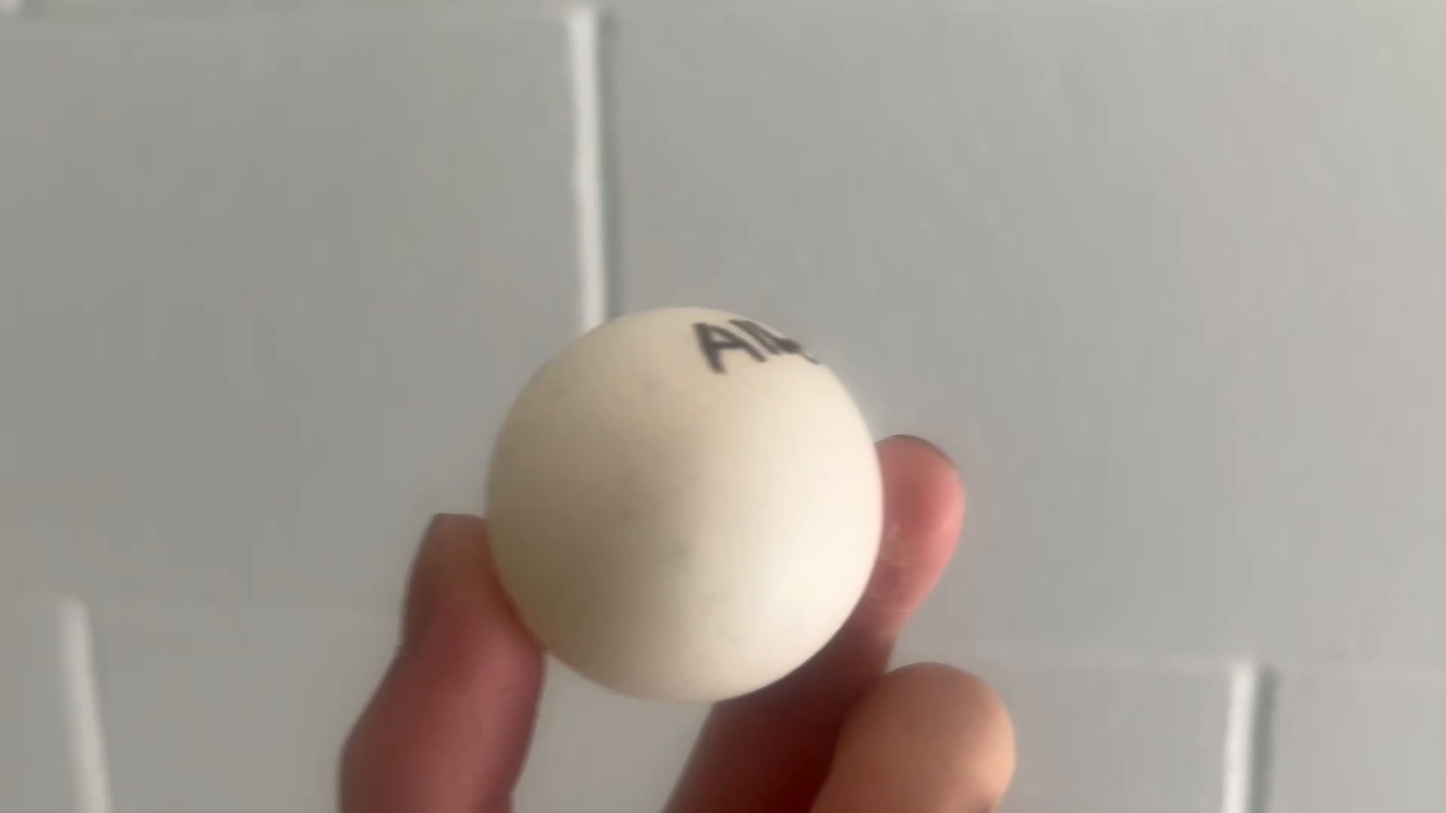Ball: (460, 287, 891, 711)
